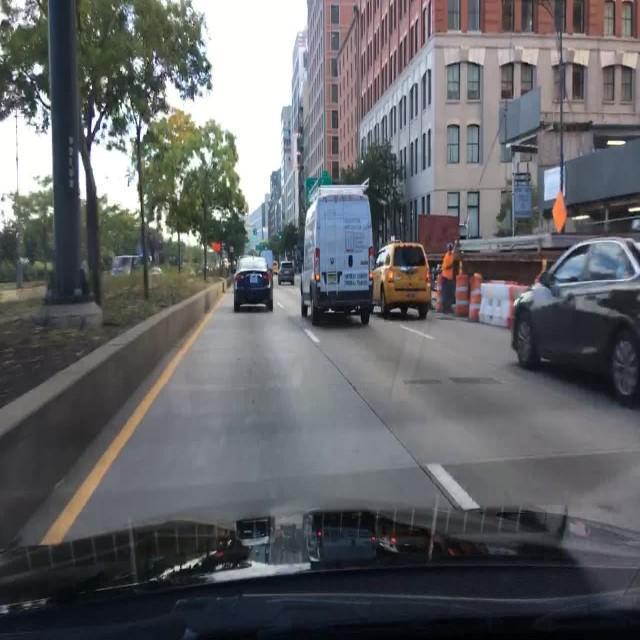normal: (497, 217, 640, 429), (286, 168, 383, 337), (225, 247, 285, 326)
